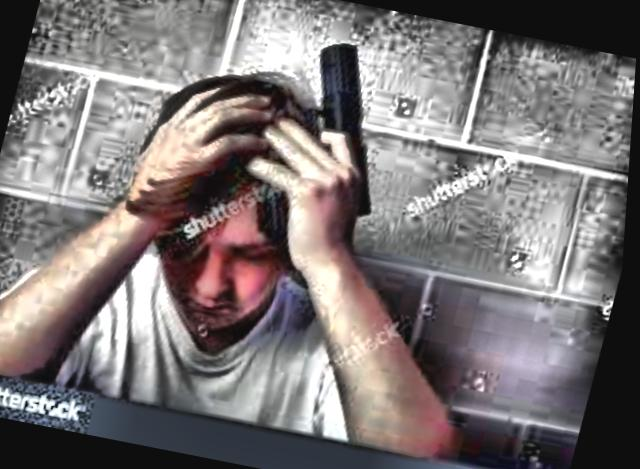pistol: (229, 18, 423, 254)
